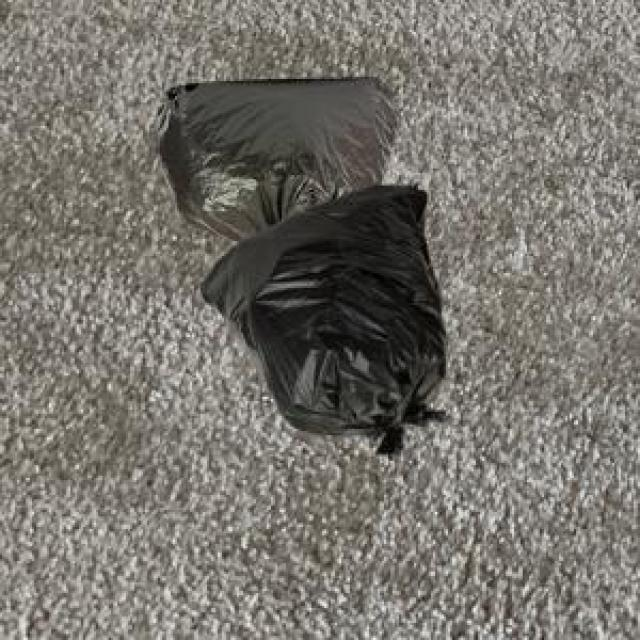Vinyl: (200, 186, 457, 444), (160, 86, 406, 226)
